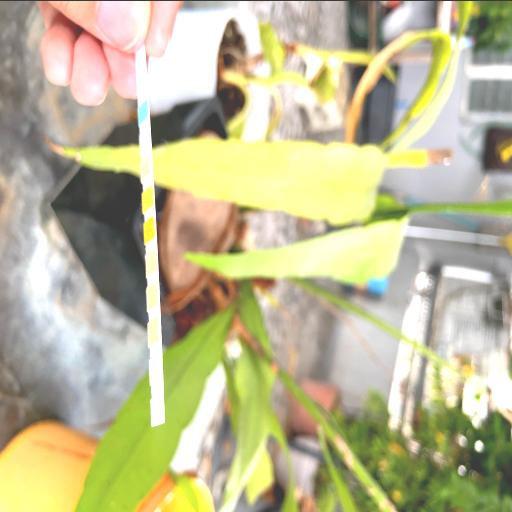Bilirubin: (140, 134, 150, 144)
Blood: (144, 222, 154, 235)
Glucose: (139, 107, 147, 117)
Ketone: (140, 162, 150, 172)
Nitrite: (150, 359, 162, 379)
Protein: (150, 398, 164, 421), (147, 288, 159, 304)
SpGravity: (142, 193, 153, 203)
Urobilinogen: (148, 322, 160, 340)
pH: (146, 255, 158, 269)
strip: (135, 51, 165, 426)
